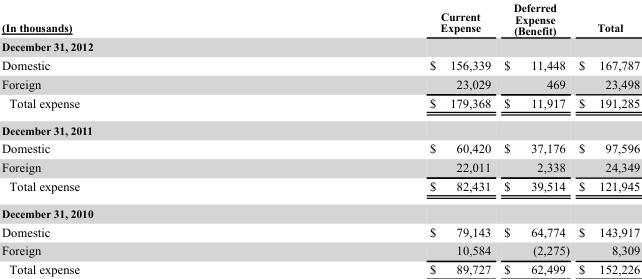table: (0, 1, 639, 276)
table column: (0, 1, 253, 276), (253, 1, 496, 276), (496, 1, 573, 276), (573, 1, 639, 276)
table column header: (0, 1, 639, 38)
table projected row header: (0, 116, 639, 138), (0, 199, 639, 221), (0, 38, 639, 55)
table row: (0, 1, 639, 38), (0, 93, 639, 116), (0, 176, 639, 199), (0, 116, 639, 138), (0, 199, 639, 221), (0, 55, 639, 74), (0, 74, 639, 93), (0, 138, 639, 157), (0, 157, 639, 176), (0, 221, 639, 240), (0, 240, 639, 259), (0, 38, 639, 55), (0, 259, 639, 276)
